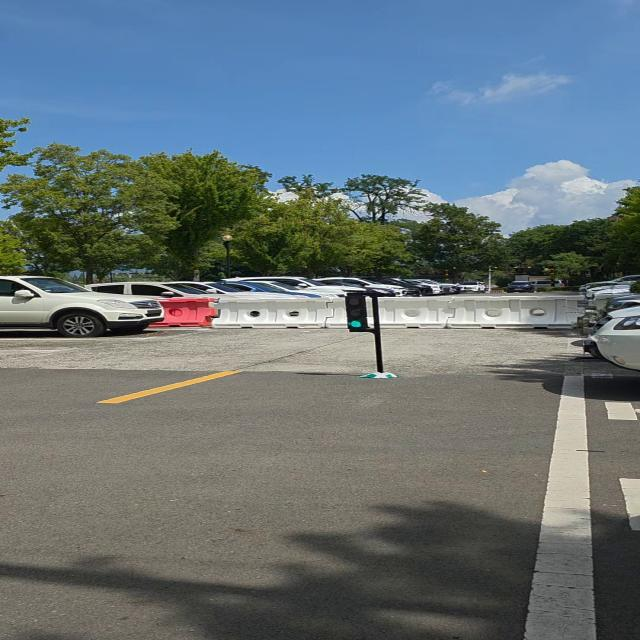green: (344, 292, 373, 332)
